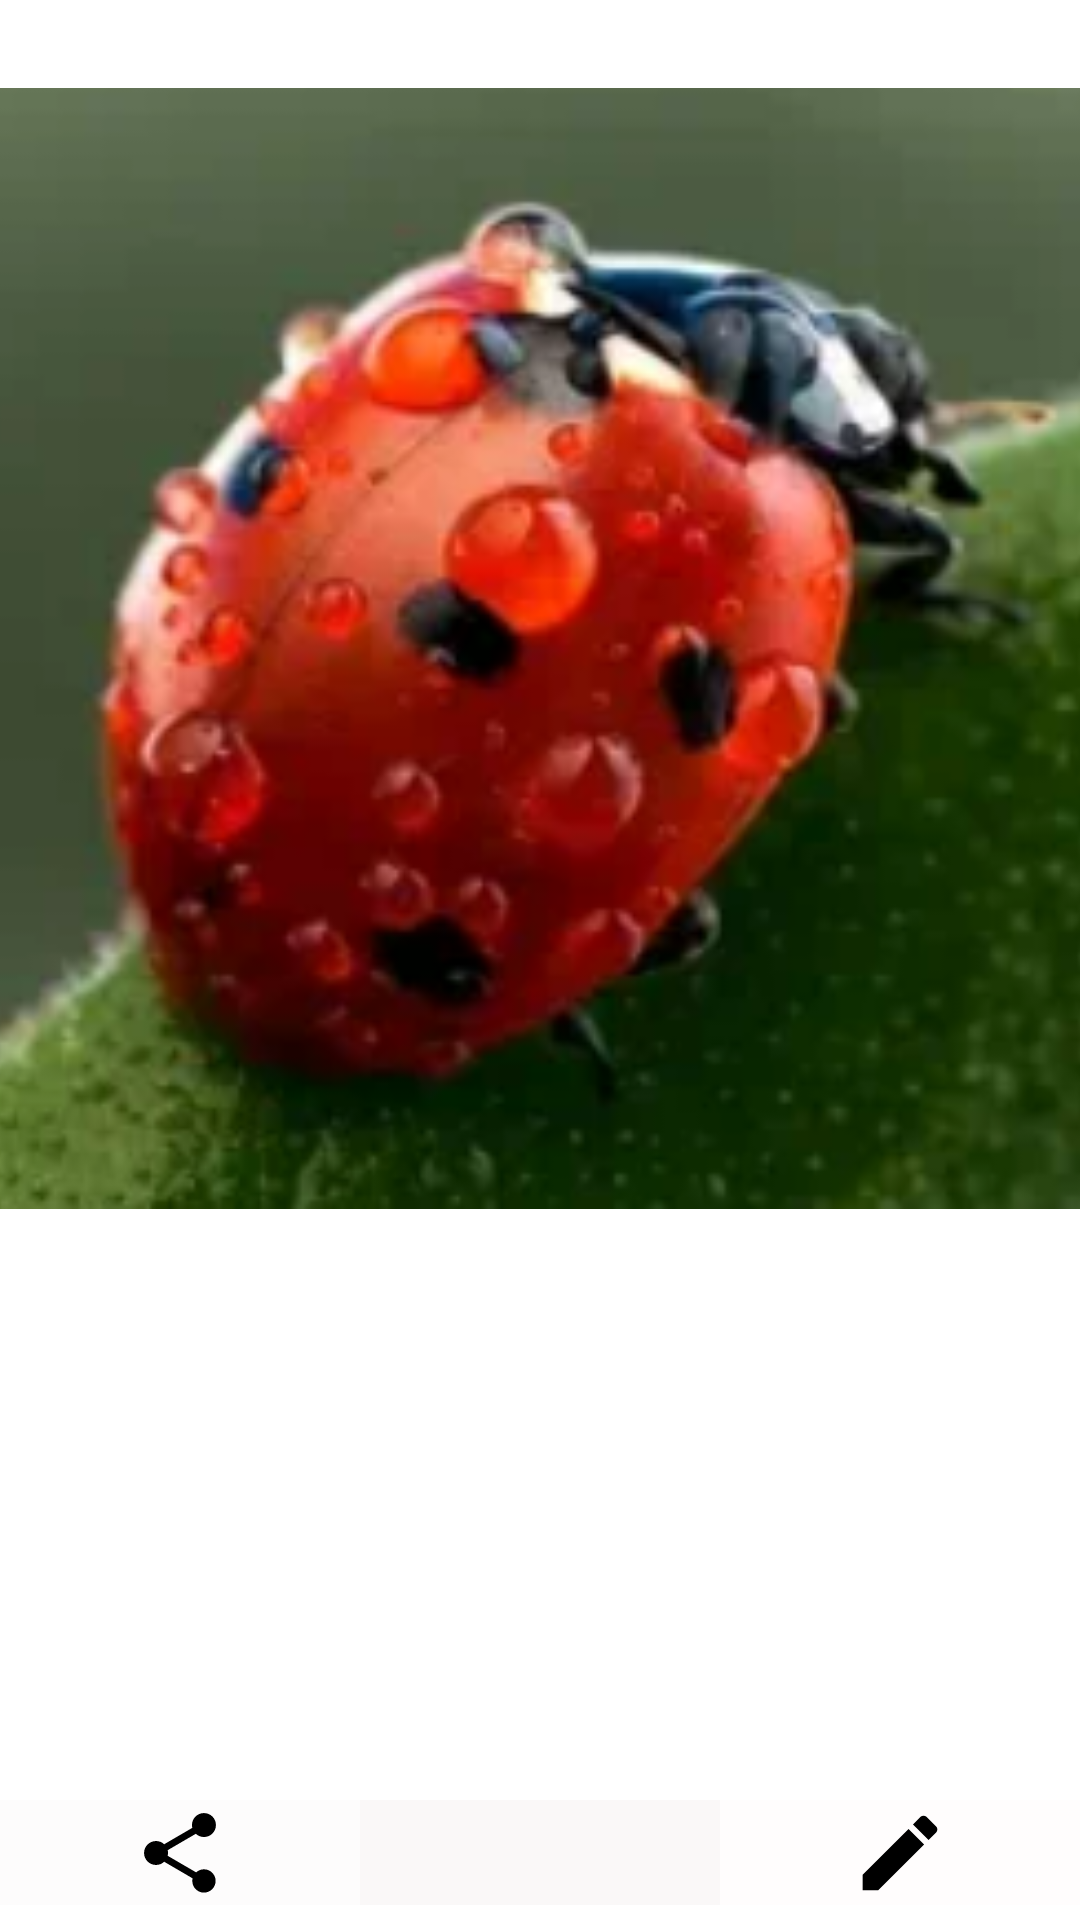

Locate icon controls on the screen. Image size 1080×1920, boxes as (x1, y1, x2, y2).
edit: (862, 1815, 938, 1891)
share: (144, 1813, 216, 1893)
